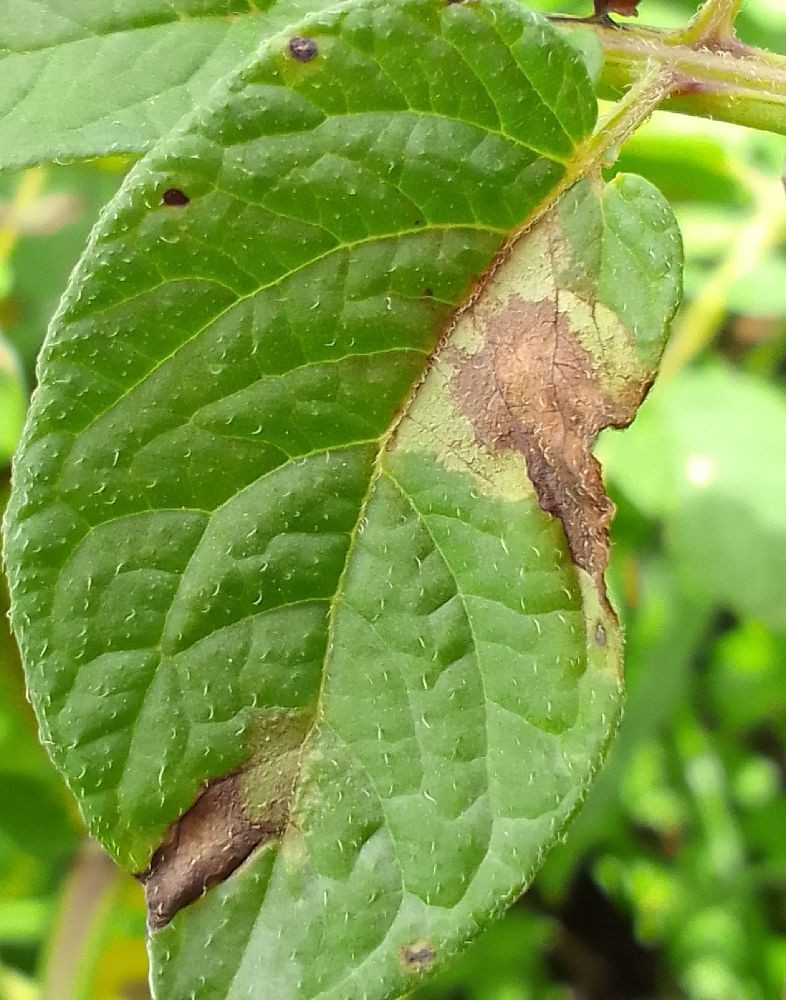late_blight: (365, 166, 672, 664), (107, 688, 336, 954), (524, 0, 786, 168), (37, 807, 136, 1000)
